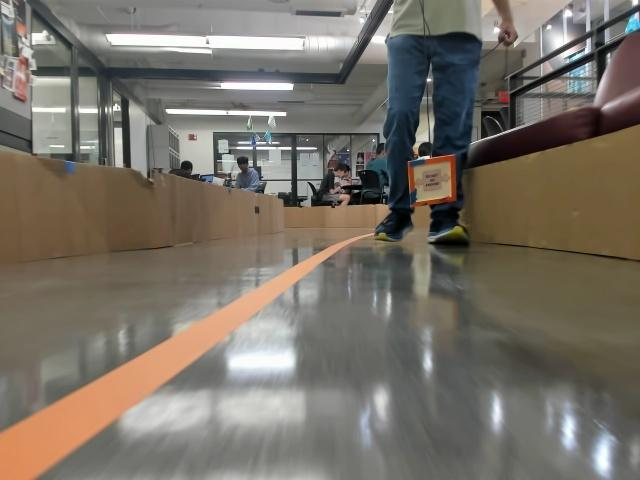Do Not Go Around: (415, 173, 447, 192)
